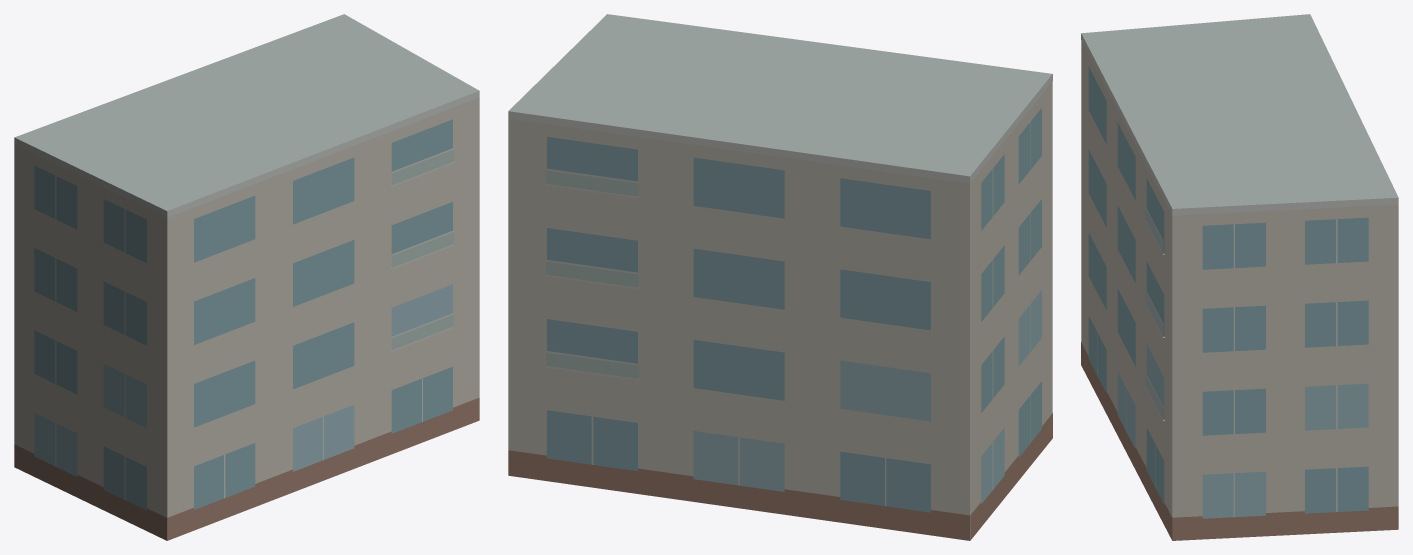
Rendered from survey-upis-32568083.glb.
3 views of the same model, side by side, from view 1: azimuth 30°, elevation 25°; view 2: azimuth 150°, elevation 25°; view 3: azimuth 270°, elevation 25° (orthographic). The views are drawn at different scales.
Visible parts, largest first — view 1: survey-upis-32568083.tmp; view 2: survey-upis-32568083.tmp; view 3: survey-upis-32568083.tmp.
Boxes of the visible parts, <box> form: survey-upis-32568083.tmp: <box>14,14,479,540</box>; survey-upis-32568083.tmp: <box>508,14,1052,540</box>; survey-upis-32568083.tmp: <box>1081,14,1398,540</box>.
Bounding box in the file's own units: 15.18 × 12.05 × 10.46.
